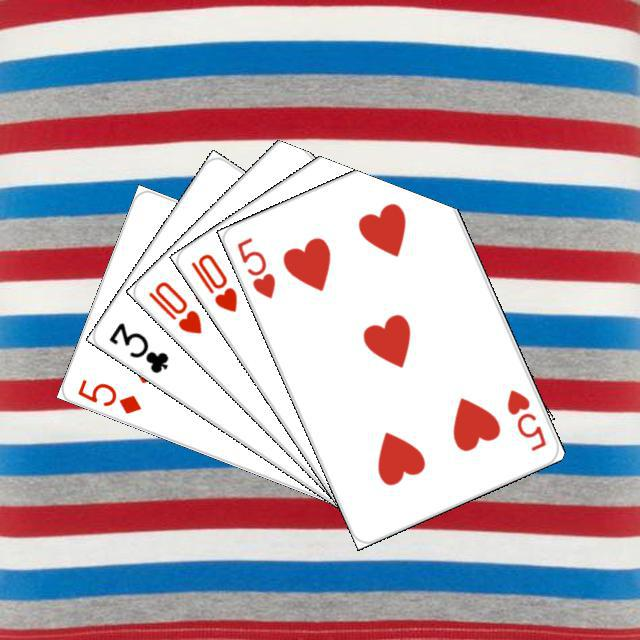10h: (143, 276, 204, 336), (185, 248, 239, 314)
3c: (103, 317, 171, 375)
5d: (72, 374, 143, 416)
5h: (501, 385, 548, 453), (232, 232, 278, 301)
